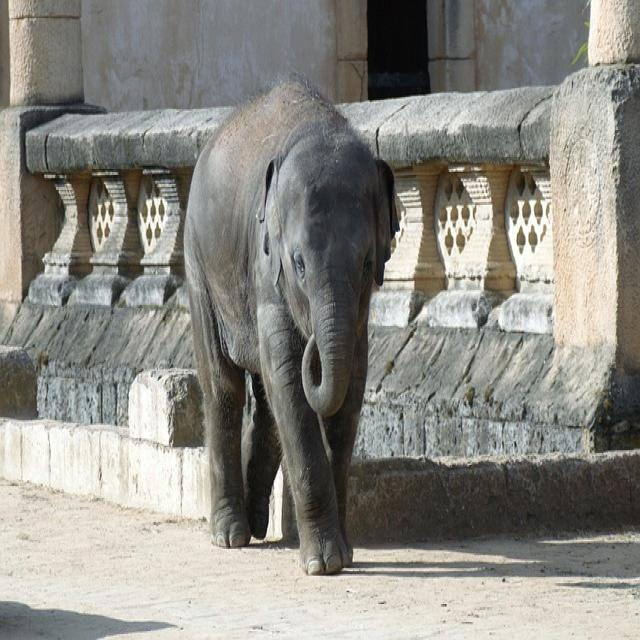elephant: (184, 79, 398, 574)
